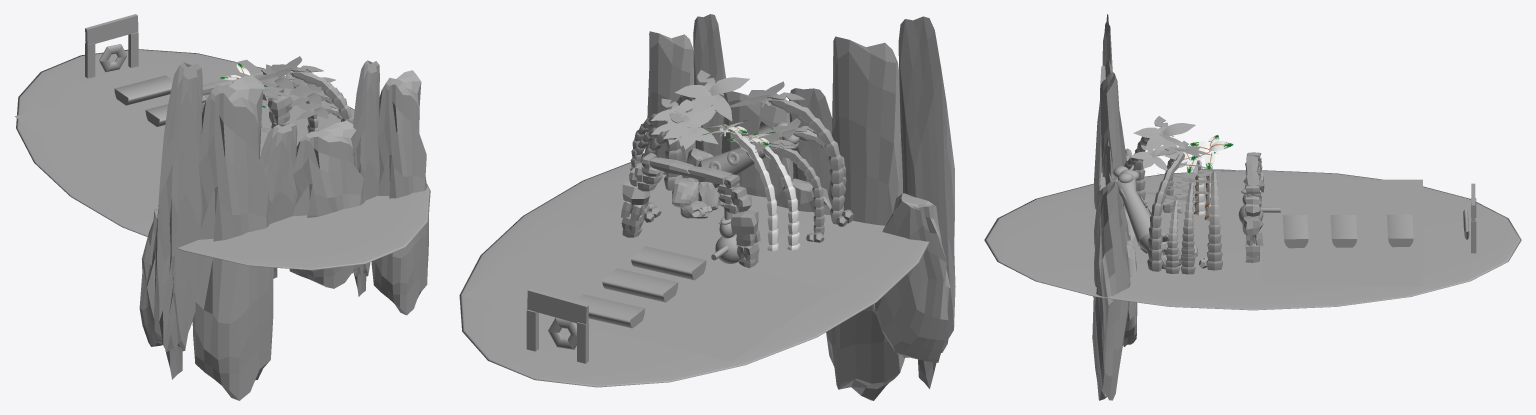
Rendered from batty.fbx.
The picture shows the model from 3 angles, left to right: view 1: azimuth 30°, elevation 25°; view 2: azimuth 150°, elevation 25°; view 3: azimuth 270°, elevation 25°; orthographic projection. The views are drawn at different scales.
Visible parts, largest first — view 1: pPlatonic5, pSphere13, pPlatonic9, pPlane20, pPlatonic8, pPlane15, pCube26, pCylinder4, pCube28, pPlane12, pasted__pPlane18, pTorus4 (+5 smaller); view 2: pSphere13, pPlatonic5, pPlane20, pPlatonic9, pPlatonic8, pCube26, pPlane14, pPlane15, pCylinder2, pCylinder3, pasted__pPlatonic5, pPlane19 (+14 smaller); view 3: pSphere13, pPlane20, pPlatonic9, pPlatonic5, pCube26, pPlane15, pTorus5, pPlane14, pPlane12, pPlane13, pasted__pPlane18, pPlane19 (+7 smaller).
Boxes of the visible parts, x1=… form: pPlatonic5: x1=139, y1=62, x2=273, y2=400; pSphere13: x1=16, y1=49, x2=430, y2=270; pPlatonic9: x1=353, y1=60, x2=428, y2=315; pPlane20: x1=15, y1=59, x2=331, y2=178; pPlatonic8: x1=259, y1=120, x2=365, y2=288; pPlane15: x1=257, y1=56, x2=353, y2=123; pCube26: x1=202, y1=68, x2=293, y2=128; pCylinder4: x1=114, y1=75, x2=172, y2=105; pCube28: x1=85, y1=14, x2=138, y2=44; pPlane12: x1=254, y1=64, x2=318, y2=133; pasted__pPlane18: x1=295, y1=100, x2=342, y2=120; pTorus4: x1=99, y1=44, x2=127, y2=72; pSphere13: x1=459, y1=162, x2=929, y2=387; pPlatonic5: x1=826, y1=16, x2=955, y2=400; pPlane20: x1=464, y1=224, x2=831, y2=361; pPlatonic9: x1=644, y1=14, x2=725, y2=177; pPlatonic8: x1=721, y1=88, x2=831, y2=214; pCube26: x1=620, y1=153, x2=760, y2=268; pPlane14: x1=730, y1=81, x2=844, y2=224; pPlane15: x1=664, y1=70, x2=749, y2=190; pCylinder2: x1=602, y1=268, x2=678, y2=302; pCylinder3: x1=631, y1=246, x2=706, y2=280; pasted__pPlatonic5: x1=672, y1=177, x2=719, y2=218; pPlane19: x1=702, y1=120, x2=779, y2=251; pSphere13: x1=984, y1=170, x2=1521, y2=310; pPlane20: x1=1261, y1=179, x2=1422, y2=286; pPlatonic9: x1=1092, y1=139, x2=1137, y2=400; pPlatonic5: x1=1093, y1=14, x2=1133, y2=297; pCube26: x1=1242, y1=152, x2=1264, y2=262; pPlane15: x1=1147, y1=133, x2=1211, y2=271; pTorus5: x1=1113, y1=166, x2=1162, y2=251; pPlane14: x1=1133, y1=116, x2=1195, y2=206; pPlane12: x1=1180, y1=164, x2=1240, y2=270; pPlane13: x1=1157, y1=173, x2=1213, y2=261; pasted__pPlane18: x1=1142, y1=192, x2=1198, y2=273; pPlane19: x1=1189, y1=134, x2=1233, y2=220.
Size of the model in its own units: 26.07 by 28.33 by 42.15.
